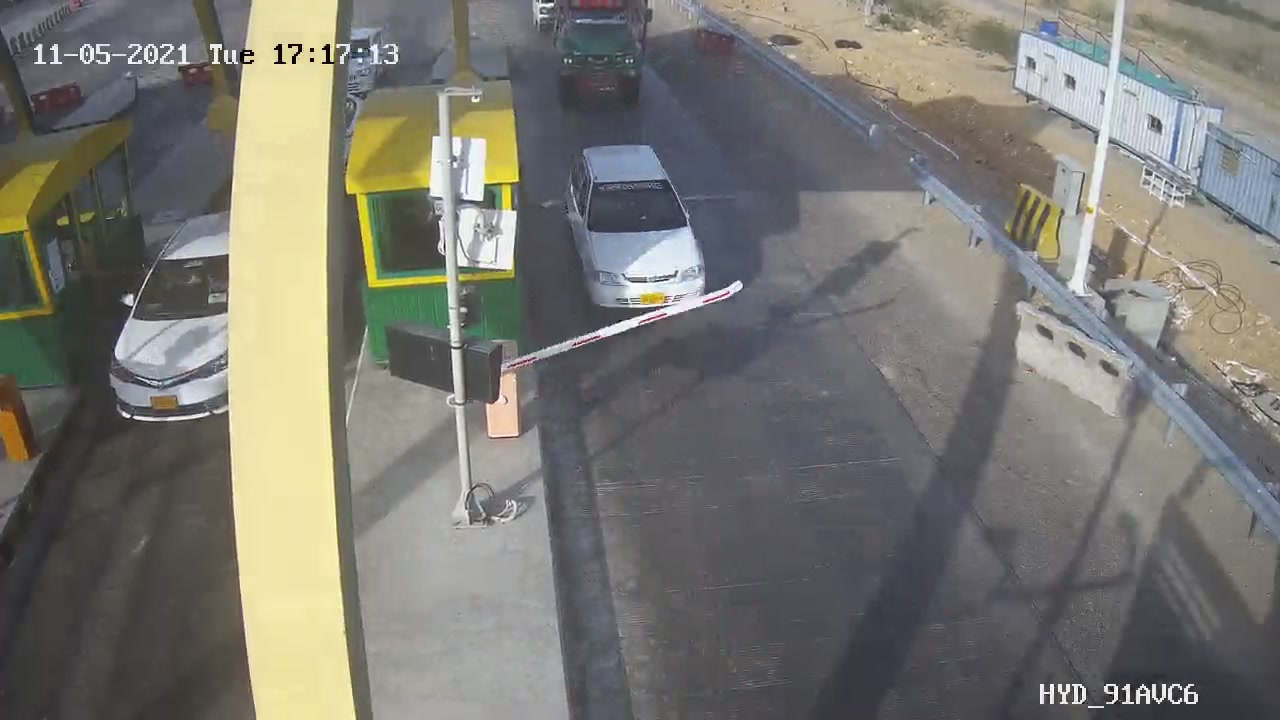F1: (547, 129, 726, 334)
